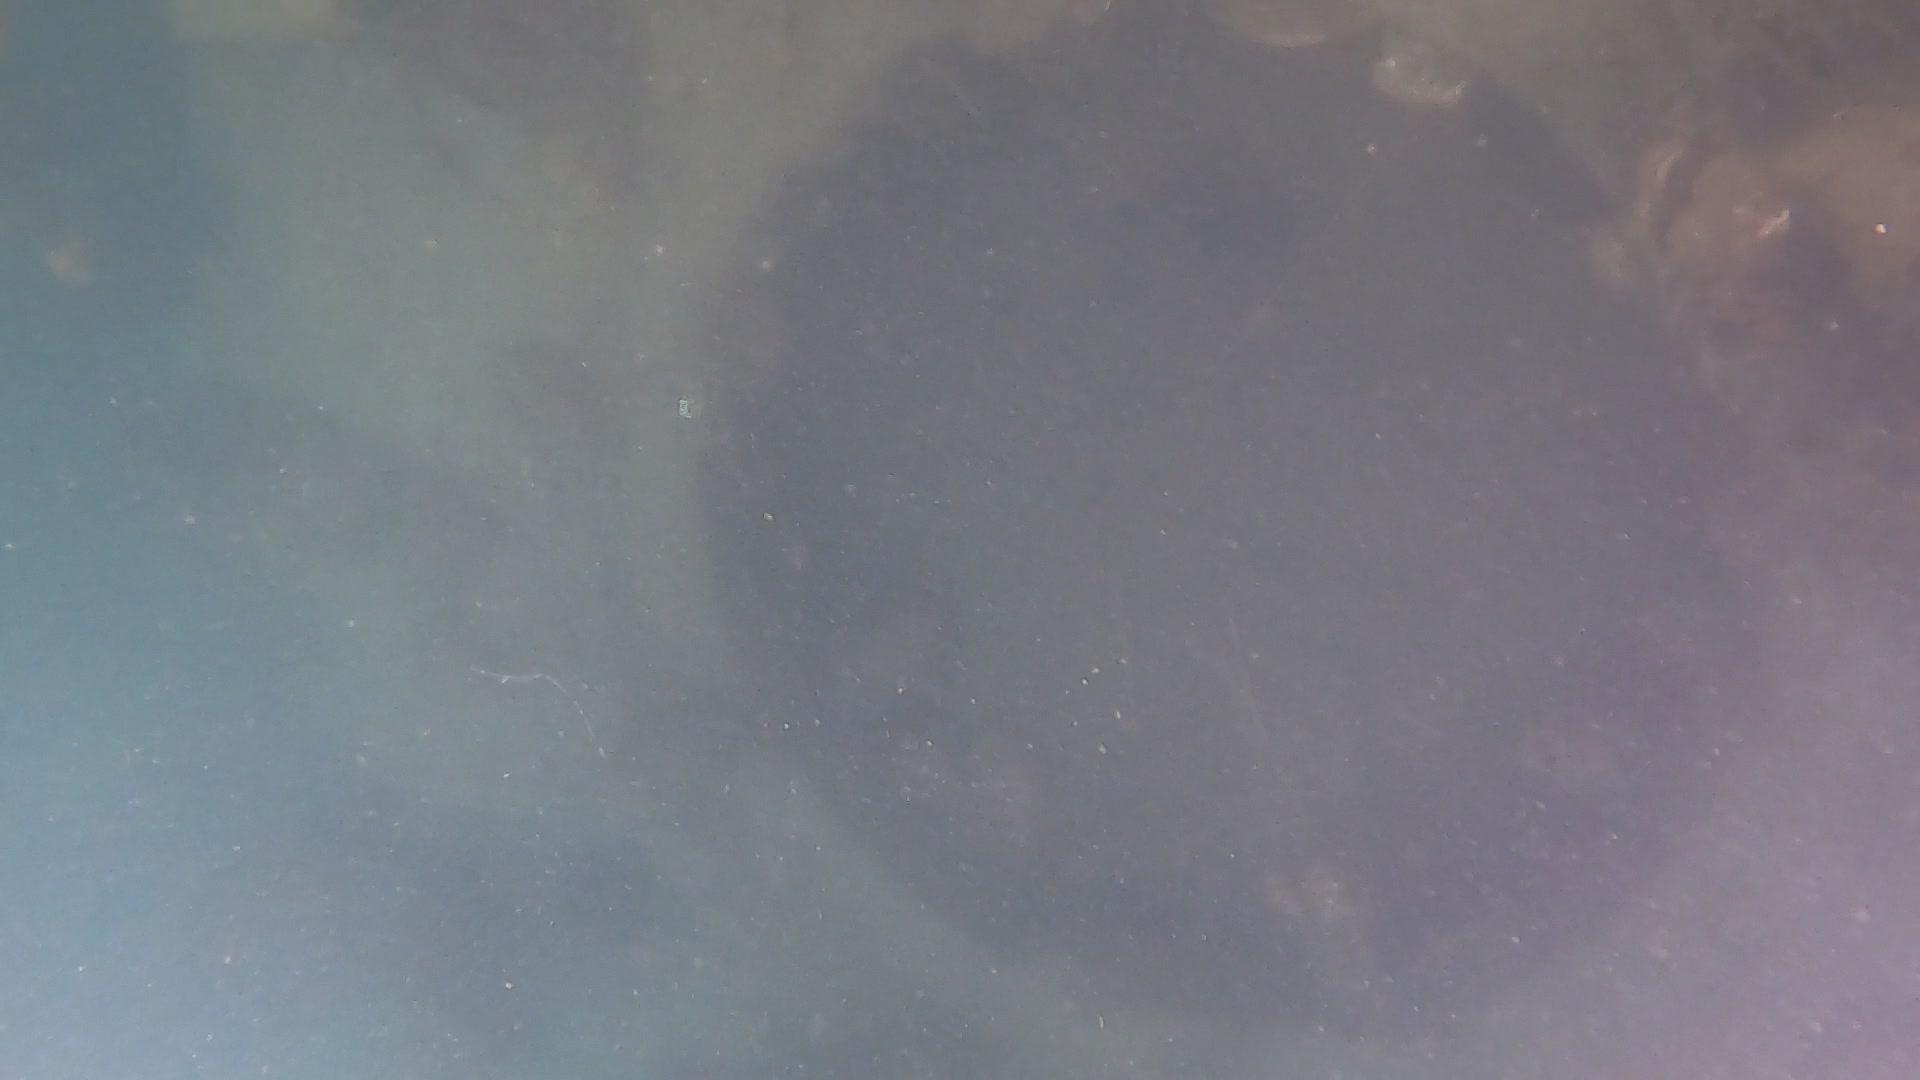other objects: (607, 16, 1826, 1072)
